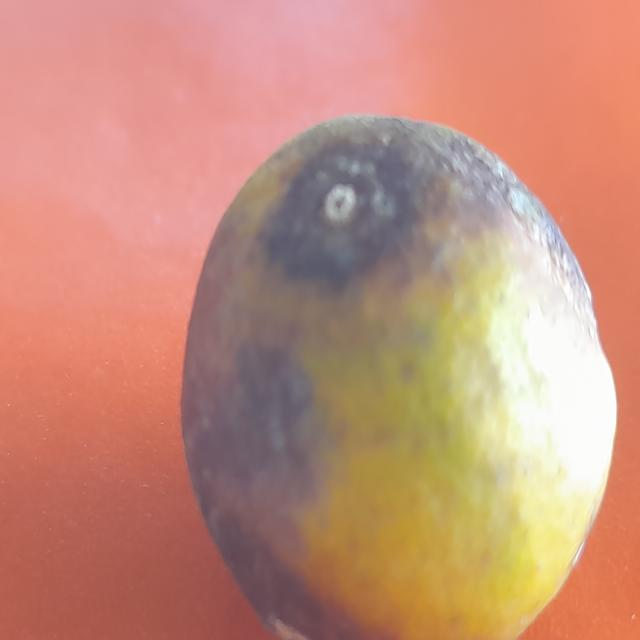black spot: (181, 65, 639, 640)
